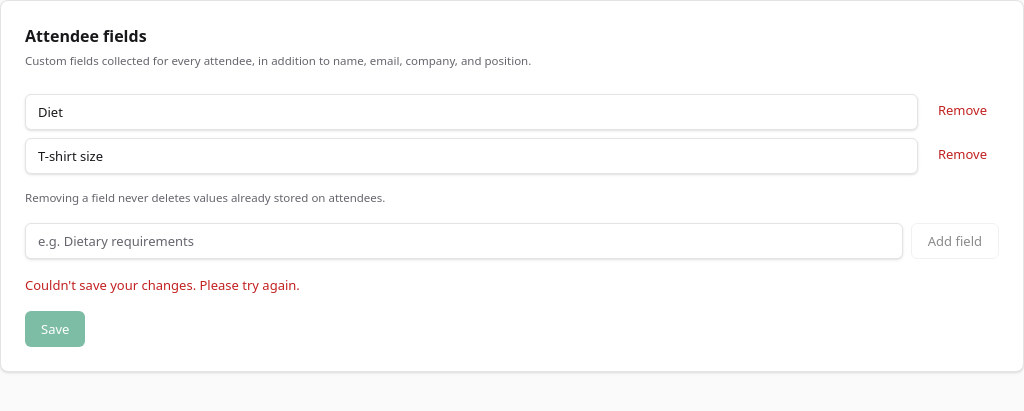
Test case: AttendeeFieldsCard › disables Save and shows a blank-name error when a field is cleared
Clear the field showing "Diet" at (471, 112), box left=25, top=94, right=918, bottom=130
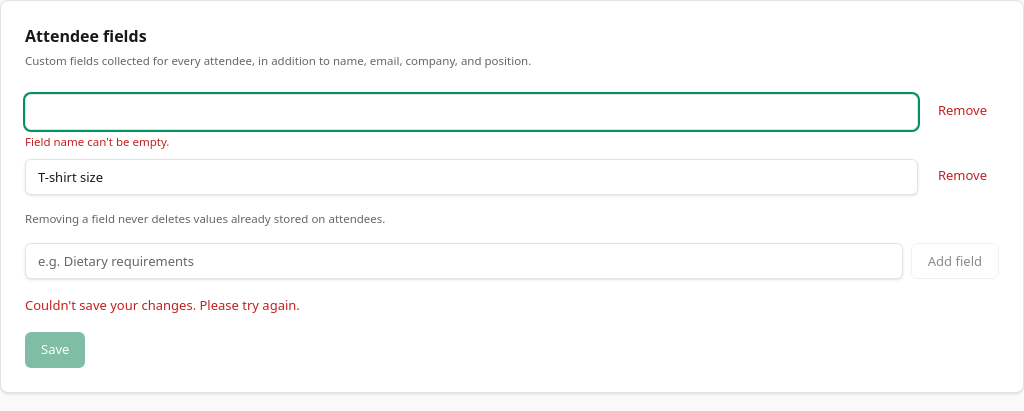
Expected: the button "Save" is disabled, left=25, top=332, right=85, bottom=368
Now the text "Field name can't be empty." is shown, box left=25, top=134, right=169, bottom=149
